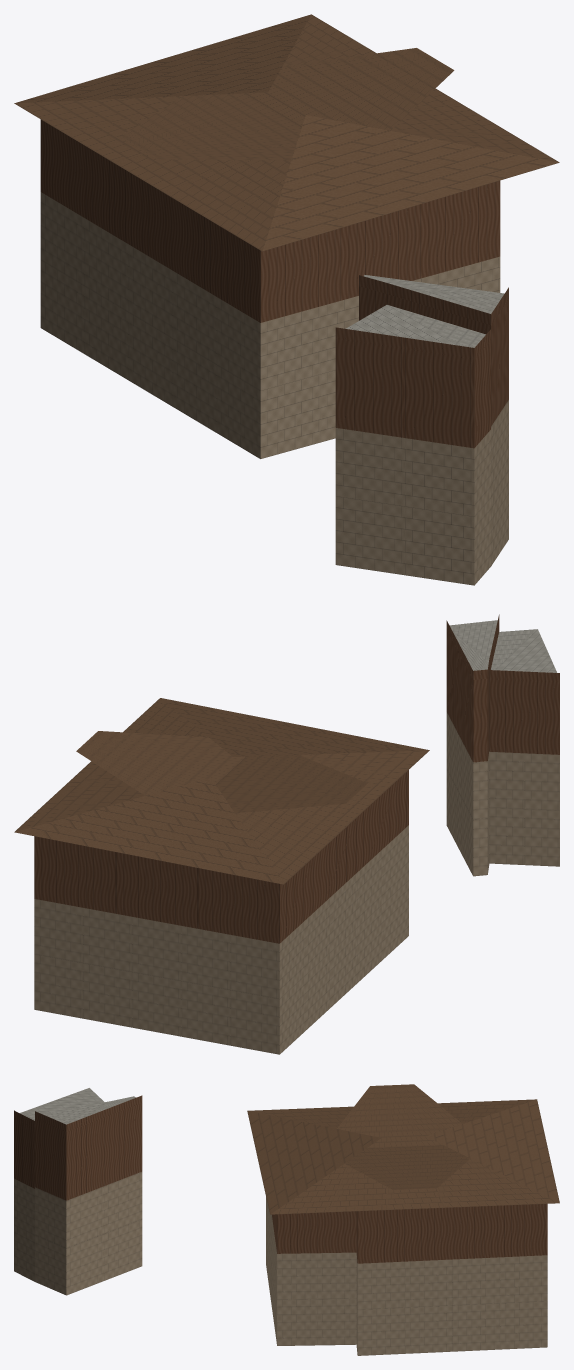
Rendered from bld_c42_32_267.gltf.
The picture shows the model from 3 angles, top to bottom: view 1: azimuth 30°, elevation 25°; view 2: azimuth 150°, elevation 25°; view 3: azimuth 270°, elevation 25°; orthographic projection. The views are drawn at different scales.
Visible parts, largest first — view 1: bld_c42_32_267; view 2: bld_c42_32_267; view 3: bld_c42_32_267.
Part boxes in pixels (bbox=[...]): bld_c42_32_267: bbox=[14, 14, 559, 585]; bld_c42_32_267: bbox=[14, 614, 559, 1054]; bld_c42_32_267: bbox=[14, 1084, 559, 1355].
Bounding box in the file's own units: 12.72 × 8.68 × 24.84.
5 materials, 5 textured.
